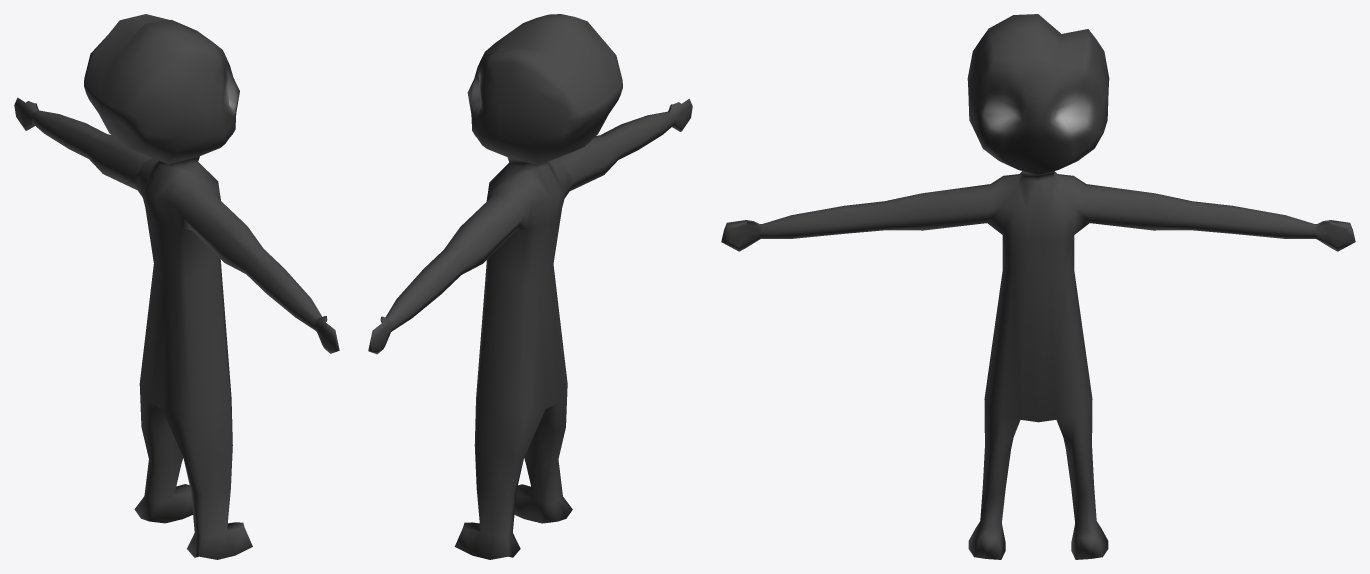
The model's file is enemy_medium.fbx.
3 views of the same model, side by side, from view 1: azimuth 30°, elevation 25°; view 2: azimuth 150°, elevation 25°; view 3: azimuth 270°, elevation 25° (orthographic).
Visible parts, largest first — view 1: enemy_medium; view 2: enemy_medium; view 3: enemy_medium.
Boxes of the visible parts, x1,y1,x2,y2 form: enemy_medium: [14, 14, 339, 559]; enemy_medium: [368, 14, 692, 559]; enemy_medium: [721, 14, 1355, 559].
Size of the model in its own units: 0.4698 by 1.77 by 1.99.
1 material, 1 textured.
